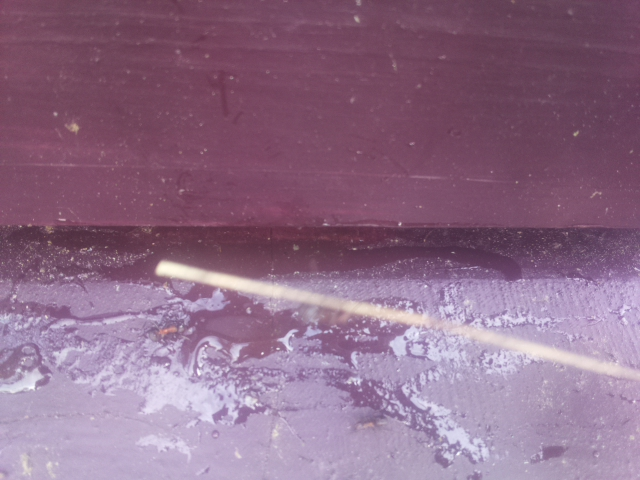ant: (142, 315, 200, 347)
